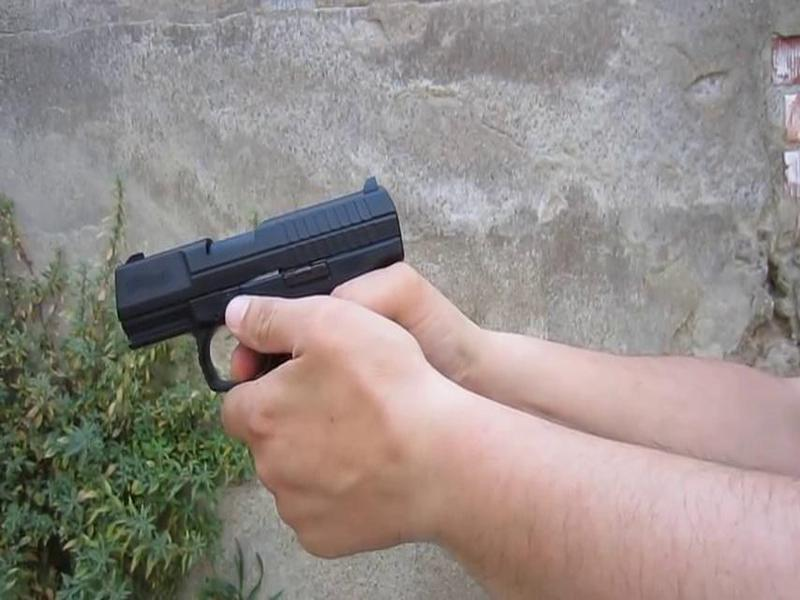Pistola: (99, 151, 423, 400)
